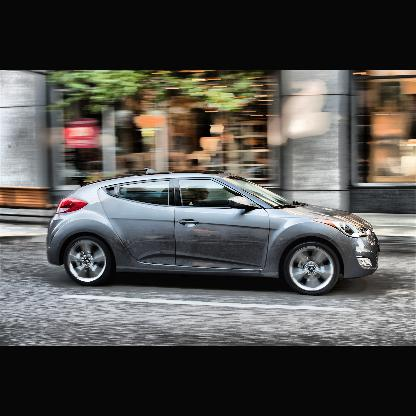Hyundai Veloster Hatchback 2012: (47, 170, 381, 297)
